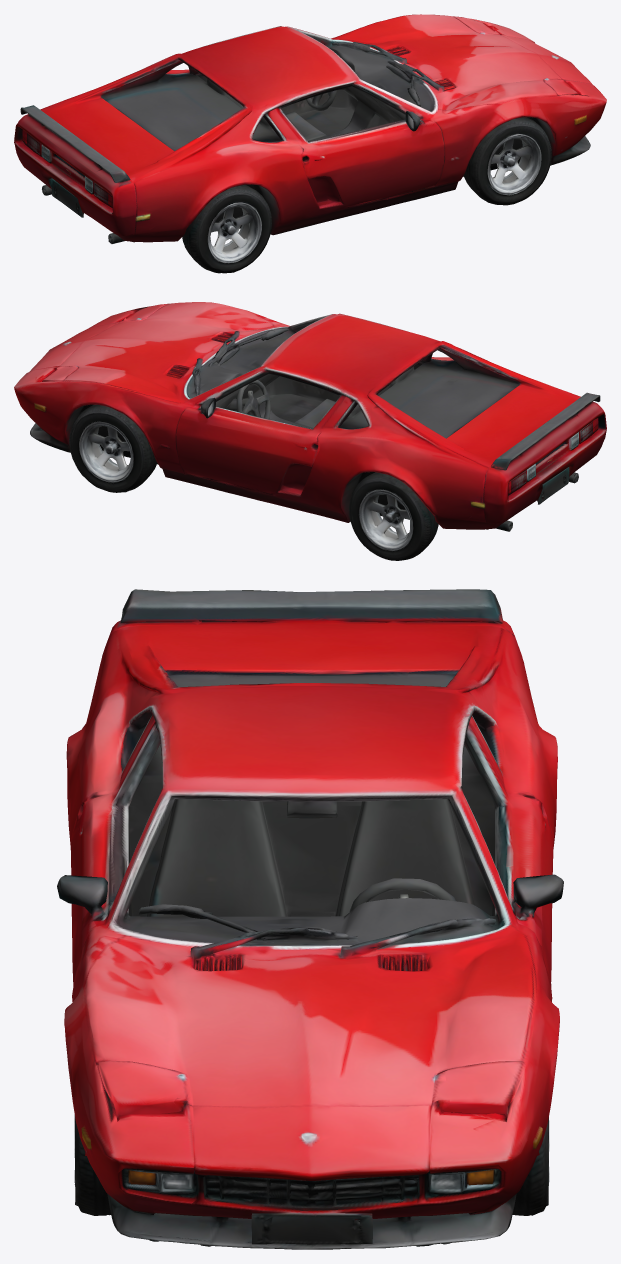
Rendered from strada.glb.
3 renders of one model, top to bottom at view 1: azimuth 30°, elevation 25°; view 2: azimuth 150°, elevation 25°; view 3: azimuth 270°, elevation 25°, orthographic. The views are drawn at different scales.
Visible parts, largest first — view 1: tripo_node_bdd0e7bd-6ef2-4d36-8ef1-6d5ec6fb1e1e; view 2: tripo_node_bdd0e7bd-6ef2-4d36-8ef1-6d5ec6fb1e1e; view 3: tripo_node_bdd0e7bd-6ef2-4d36-8ef1-6d5ec6fb1e1e.
Boxes of the visible parts, left/top/right/bottom form: tripo_node_bdd0e7bd-6ef2-4d36-8ef1-6d5ec6fb1e1e: left=14, top=14, right=606, bottom=273; tripo_node_bdd0e7bd-6ef2-4d36-8ef1-6d5ec6fb1e1e: left=14, top=302, right=606, bottom=560; tripo_node_bdd0e7bd-6ef2-4d36-8ef1-6d5ec6fb1e1e: left=57, top=589, right=563, bottom=1249.
Bounding box in the file's own units: 4.29 × 1.2 × 1.85.
Materials: 1 (1 with a texture image).
